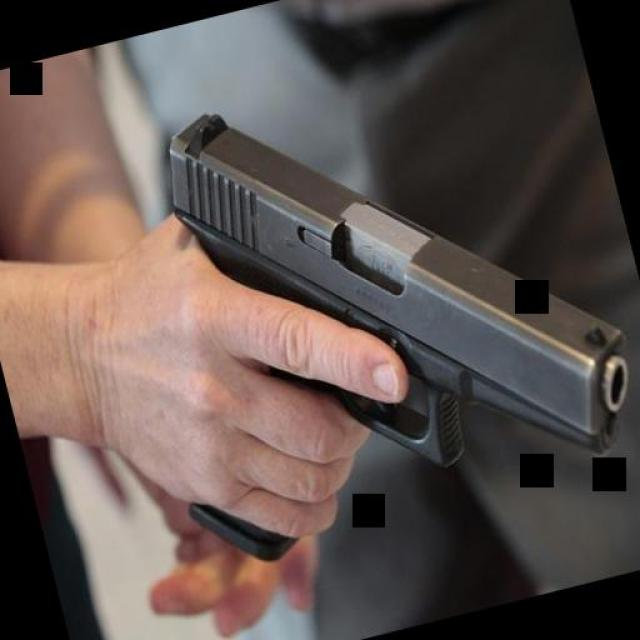gun: (84, 21, 640, 581)
